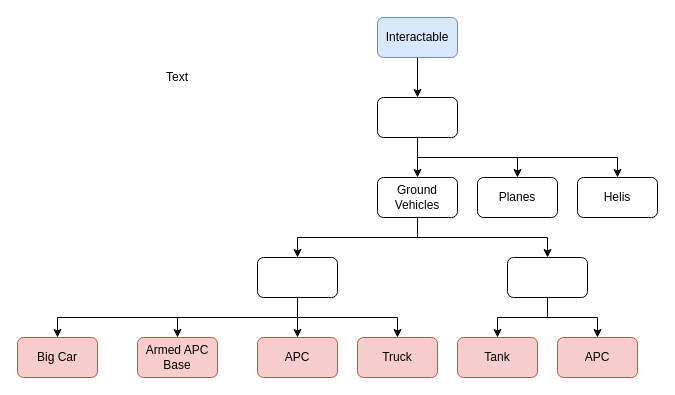
This 675x395 diagram has some shape labels left out. Here are the shapes that lost their labels. From the top down, the centre of each, then its label:
At point 417,117: "VehicleBase".
At point 297,277: "Wheeled Vehicle".
At point 547,277: "Tracked Vehicle".
